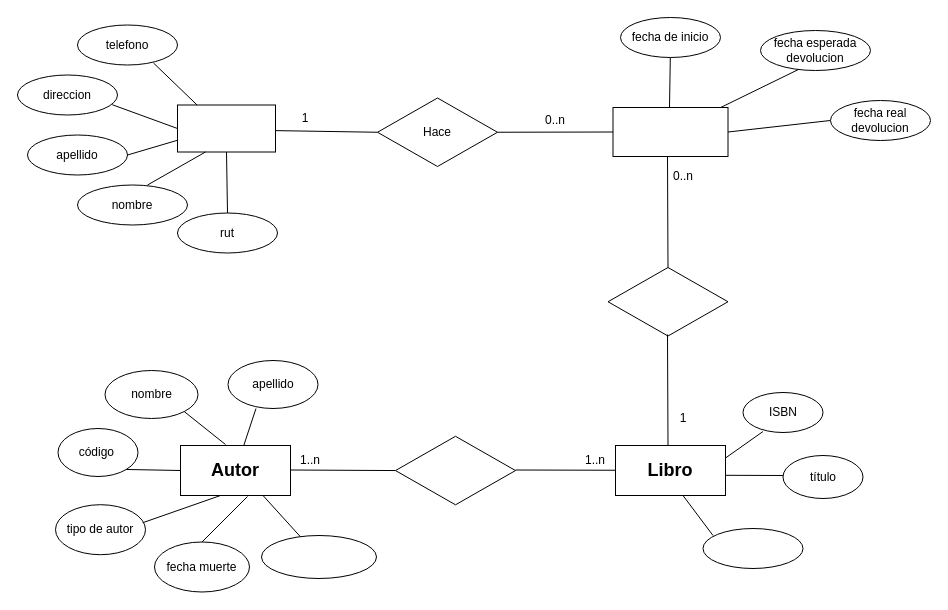
Image size: 948x610. Some labels were removed from this diagram. The shapes that lost their labels are listed below. From the top down, each one's centre as x and y in pixels, then its label:
point 226,128: Socio
point 670,131: Prestamo
point 667,301: Tiene
point 455,470: Escribe
point 318,556: fecha nacimiento
point 752,548: número de páginas
